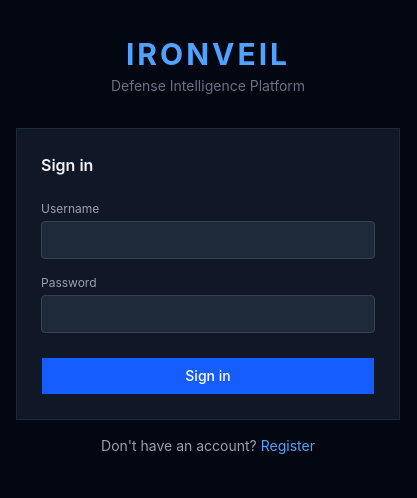
it: LoginPage › shows a generic error when login rejects with a non-Error value
Type "admin" into the field labelled "Username" at [208, 240], box [41,221,375,259]
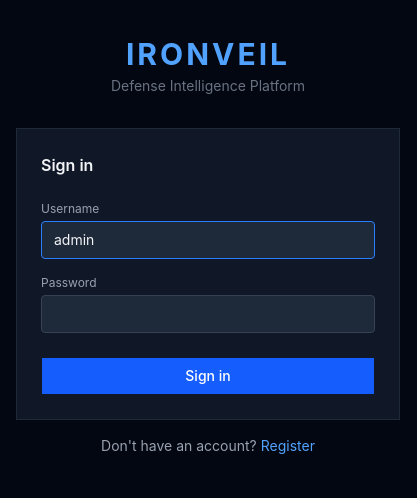
Type "Admin1234!" into the password field labelled "Password" at [208, 314], box [41,295,375,333]
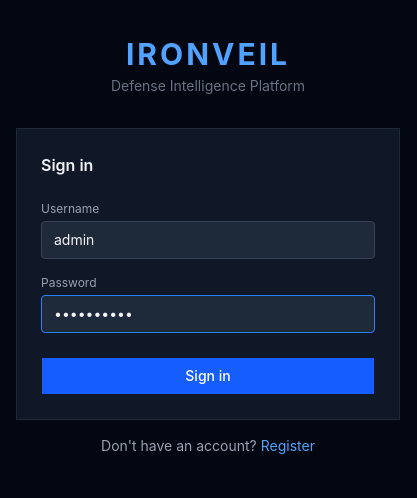
Click the button "Sign in" at [208, 376], box [41,357,375,395]
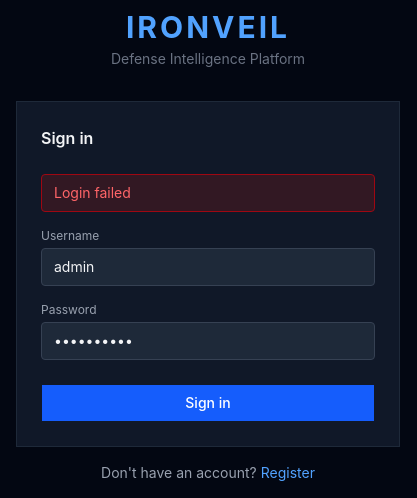
Expected: the message with test id "login-error" reads "Login failed", [54,184,131,201]
